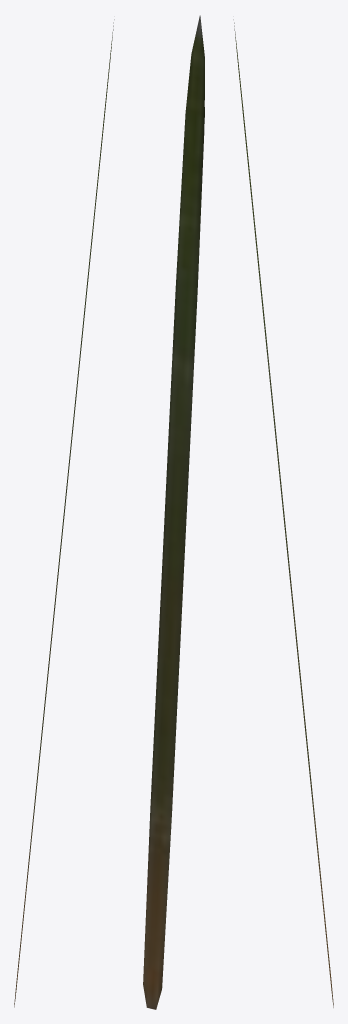
The model's file is grass_bermuda_01_single_a.gltf.
3 views of the same model, side by side, from view 1: azimuth 90°, elevation 25°; view 2: azimuth 150°, elevation 25°; view 3: azimuth 270°, elevation 25° (orthographic). The views are drawn at different scales.
Parts seen in each view (by area): view 1: grass_bermuda_01_single_a; view 2: grass_bermuda_01_single_a; view 3: grass_bermuda_01_single_a.
Part boxes in pixels (bbox=[...]): grass_bermuda_01_single_a: bbox=[14, 19, 114, 1007]; grass_bermuda_01_single_a: bbox=[143, 15, 204, 1009]; grass_bermuda_01_single_a: bbox=[233, 19, 333, 1007].
Size of the model in its own units: 0.00358 by 0.1494 by 0.0137.
Materials: 1 (1 with a texture image).
